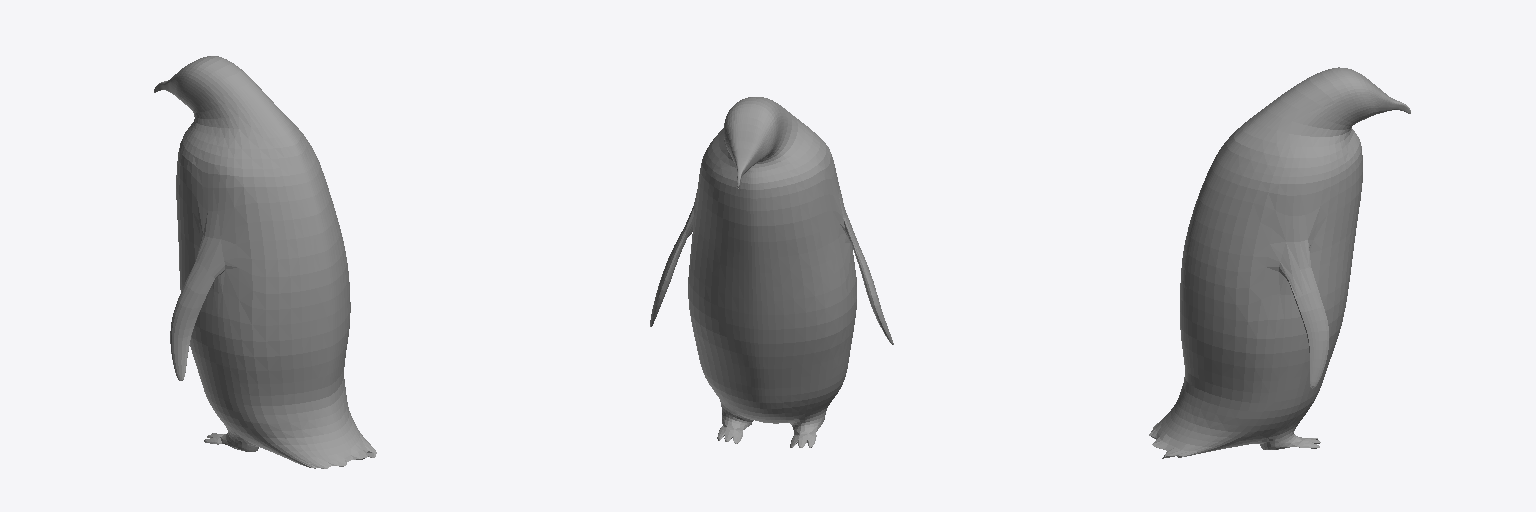
The model's file is penguin4.obj.
3 renders of one model, left to right at view 1: azimuth 30°, elevation 25°; view 2: azimuth 150°, elevation 25°; view 3: azimuth 270°, elevation 25°, orthographic.
Visible parts, largest first — view 1: Penguin_Cylinder.004; view 2: Penguin_Cylinder.004; view 3: Penguin_Cylinder.004.
Part boxes in pixels (x1,y1,x2,y2): Penguin_Cylinder.004: (154,56,376,468); Penguin_Cylinder.004: (650,97,893,447); Penguin_Cylinder.004: (1149,67,1410,458).
Bounding box in the file's own units: 2.29 × 3.82 × 2.56.